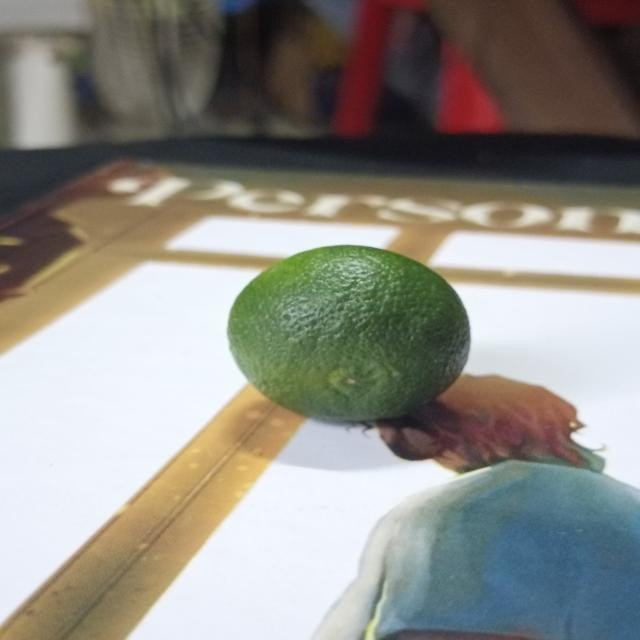heathy: (228, 245, 483, 433)
